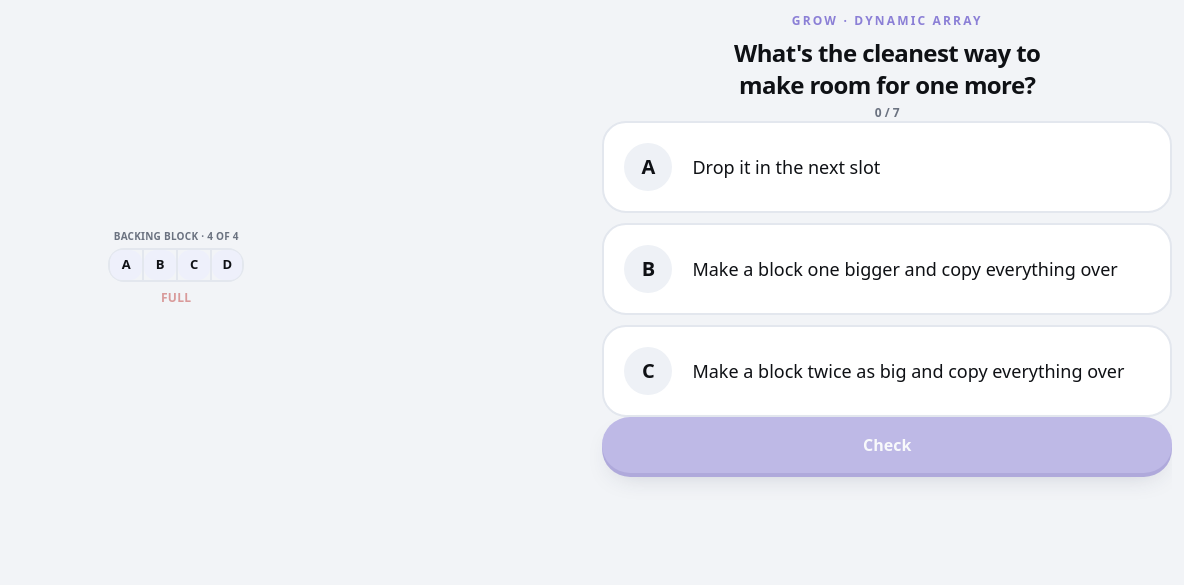
Scenario: Arrays stage: grow (cleanest fix, branching consequences) › growone plays the repetitive-copy loop and shows the live Poly hint, then lets you retry
The width and height of the screenshot is (1184, 585).
Click the button "B Make a block one bigger and copy everything over": point(887, 269) [602,223,1172,315]
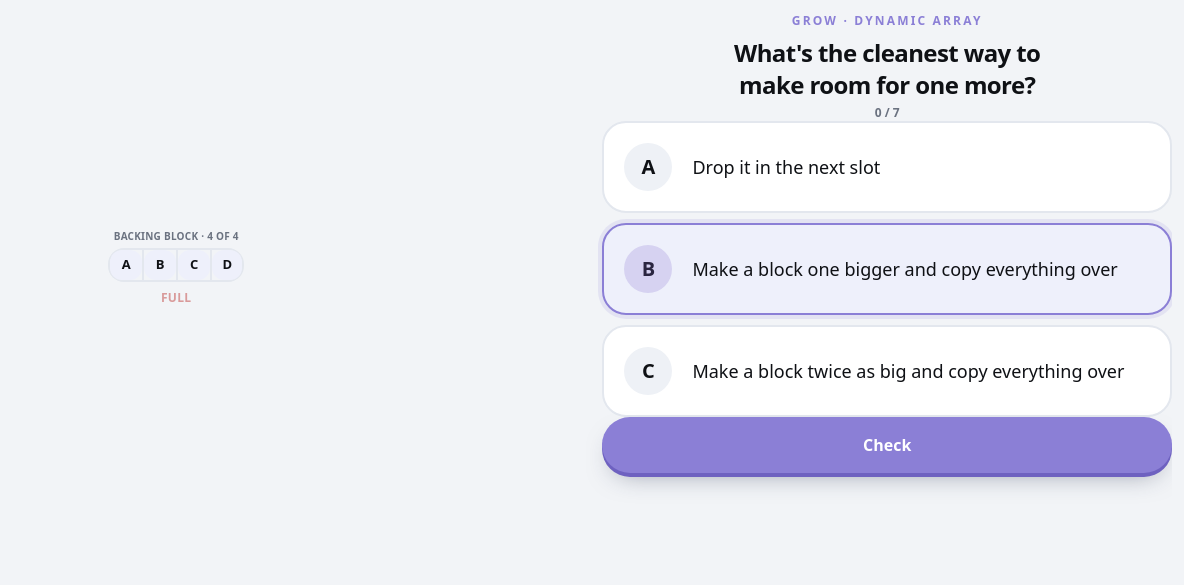
Click the button "Check": point(887, 445) [602,417,1172,473]
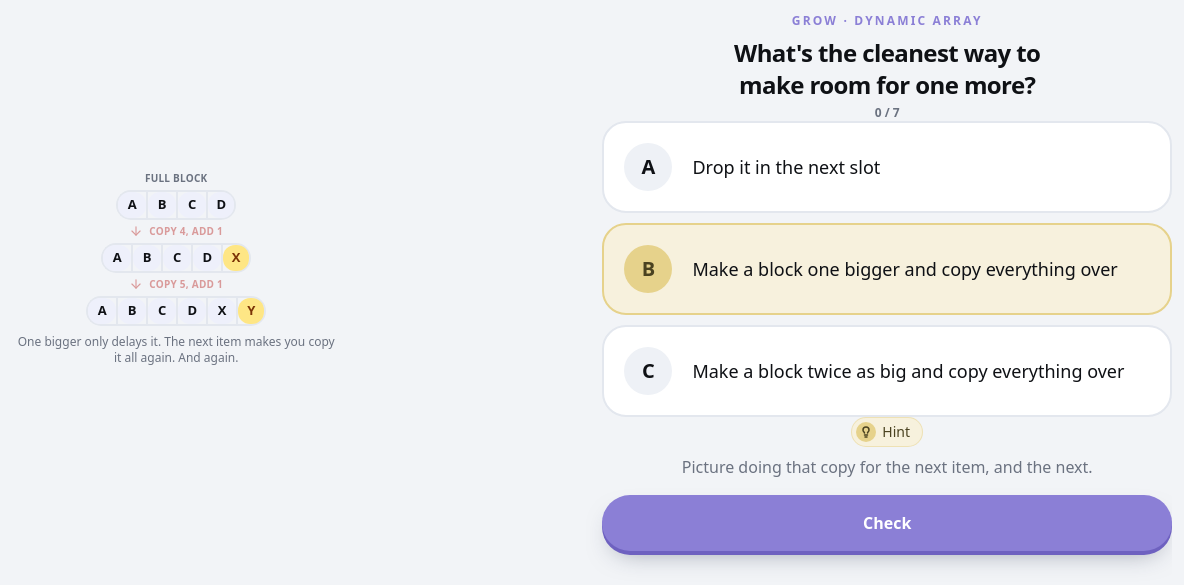
Expected: the element with test id "grow-by-one-loop" is shown, [16,170,336,366]
Expected: the text "Picture doing that copy for the next item, and the next." is shown, [682,455,1093,479]
retry with the correct fix: the doubling reveal lands and the lesson can continue
Click the button "C Make a block twice as big and copy everything over": point(887, 371) [602,325,1172,417]
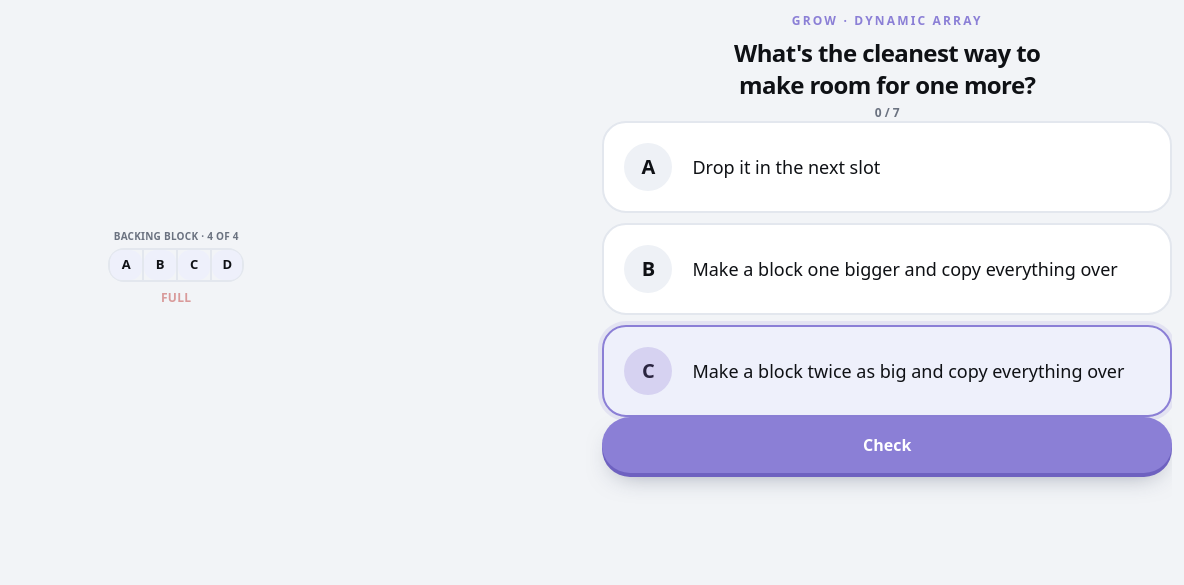
Click the button "Check": point(887, 445) [602,417,1172,473]
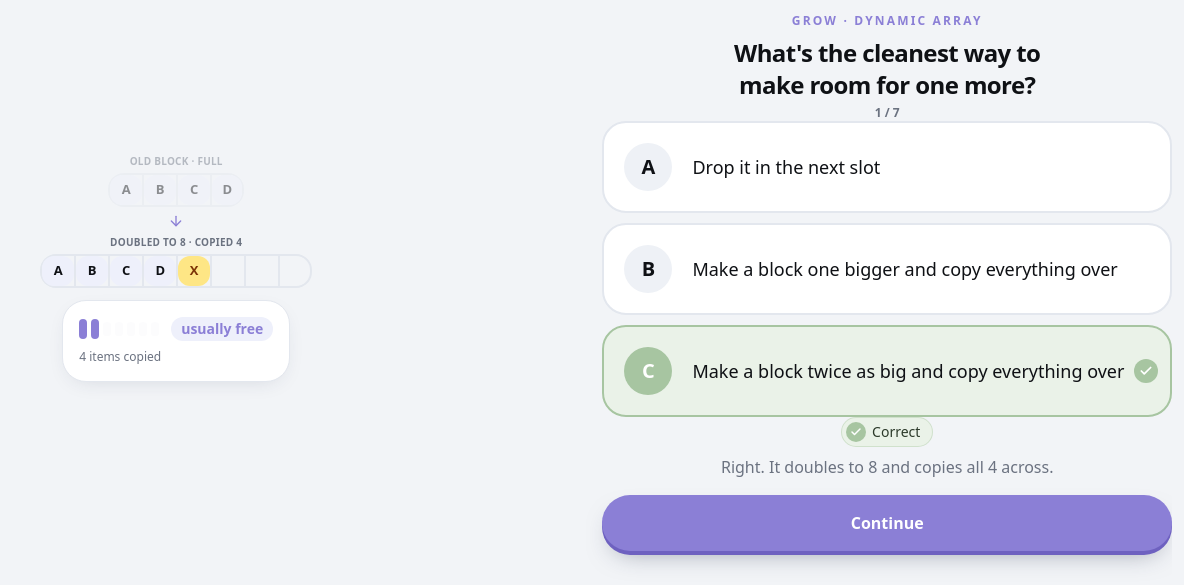
Expected: the text "Doubled to 8 · copied 4" is shown, [110,235,242,250]
Expected: the button "Continue" is shown, [602,495,1172,551]
